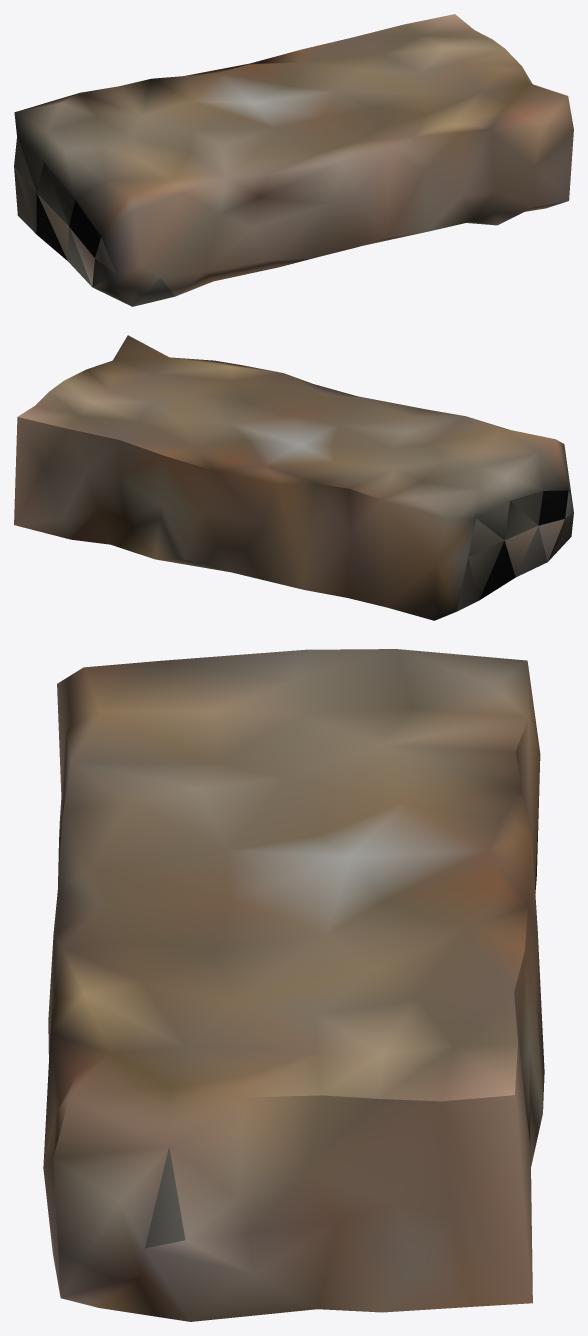
The model's file is sm_en_Brick_06_01.FBX.
3 views of the same model, one above another, from view 1: azimuth 30°, elevation 25°; view 2: azimuth 150°, elevation 25°; view 3: azimuth 270°, elevation 25° (orthographic). The views are drawn at different scales.
Parts seen in each view (by area): view 1: sm_en_Brick_06_01_LOD0; view 2: sm_en_Brick_06_01_LOD0; view 3: sm_en_Brick_06_01_LOD0.
Boxes of the visible parts, x1,y1,x2,y2 form: sm_en_Brick_06_01_LOD0: (14, 14, 573, 306); sm_en_Brick_06_01_LOD0: (14, 335, 573, 620); sm_en_Brick_06_01_LOD0: (43, 649, 544, 1321).
Size of what is drawn, in the model's own units: 26.34 by 12.23 by 6.72.
